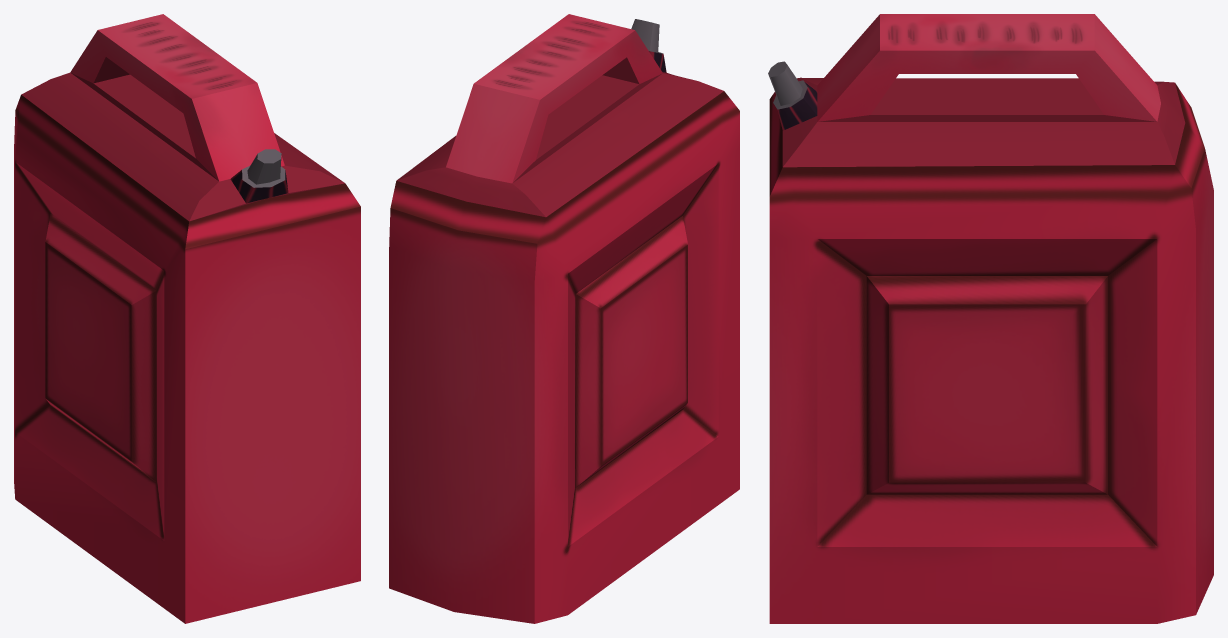
Rendered from fueltank.fbx.
The picture shows the model from 3 angles, left to right: view 1: azimuth 30°, elevation 25°; view 2: azimuth 150°, elevation 25°; view 3: azimuth 270°, elevation 25°; orthographic projection. The views are drawn at different scales.
Visible parts, largest first — view 1: Fuel_tank; view 2: Fuel_tank; view 3: Fuel_tank.
Part boxes in pixels (<box>): Fuel_tank: <box>14,14,360,623</box>; Fuel_tank: <box>389,14,739,623</box>; Fuel_tank: <box>768,14,1213,623</box>.
Size of the model in its own units: 0.4409 by 1.13 by 0.8396.
